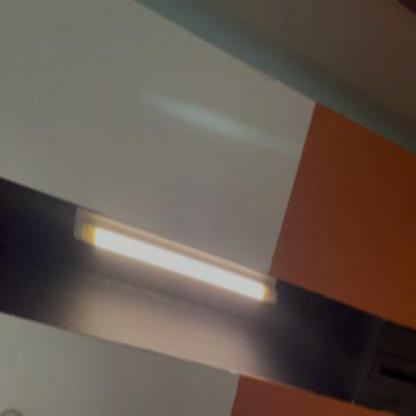light_on: (69, 197, 280, 316)
